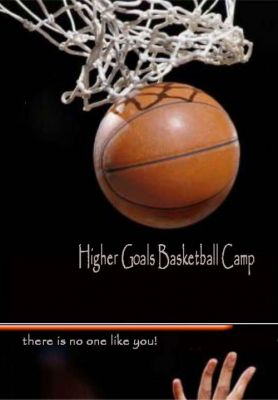basketball: (93, 82, 239, 229)
